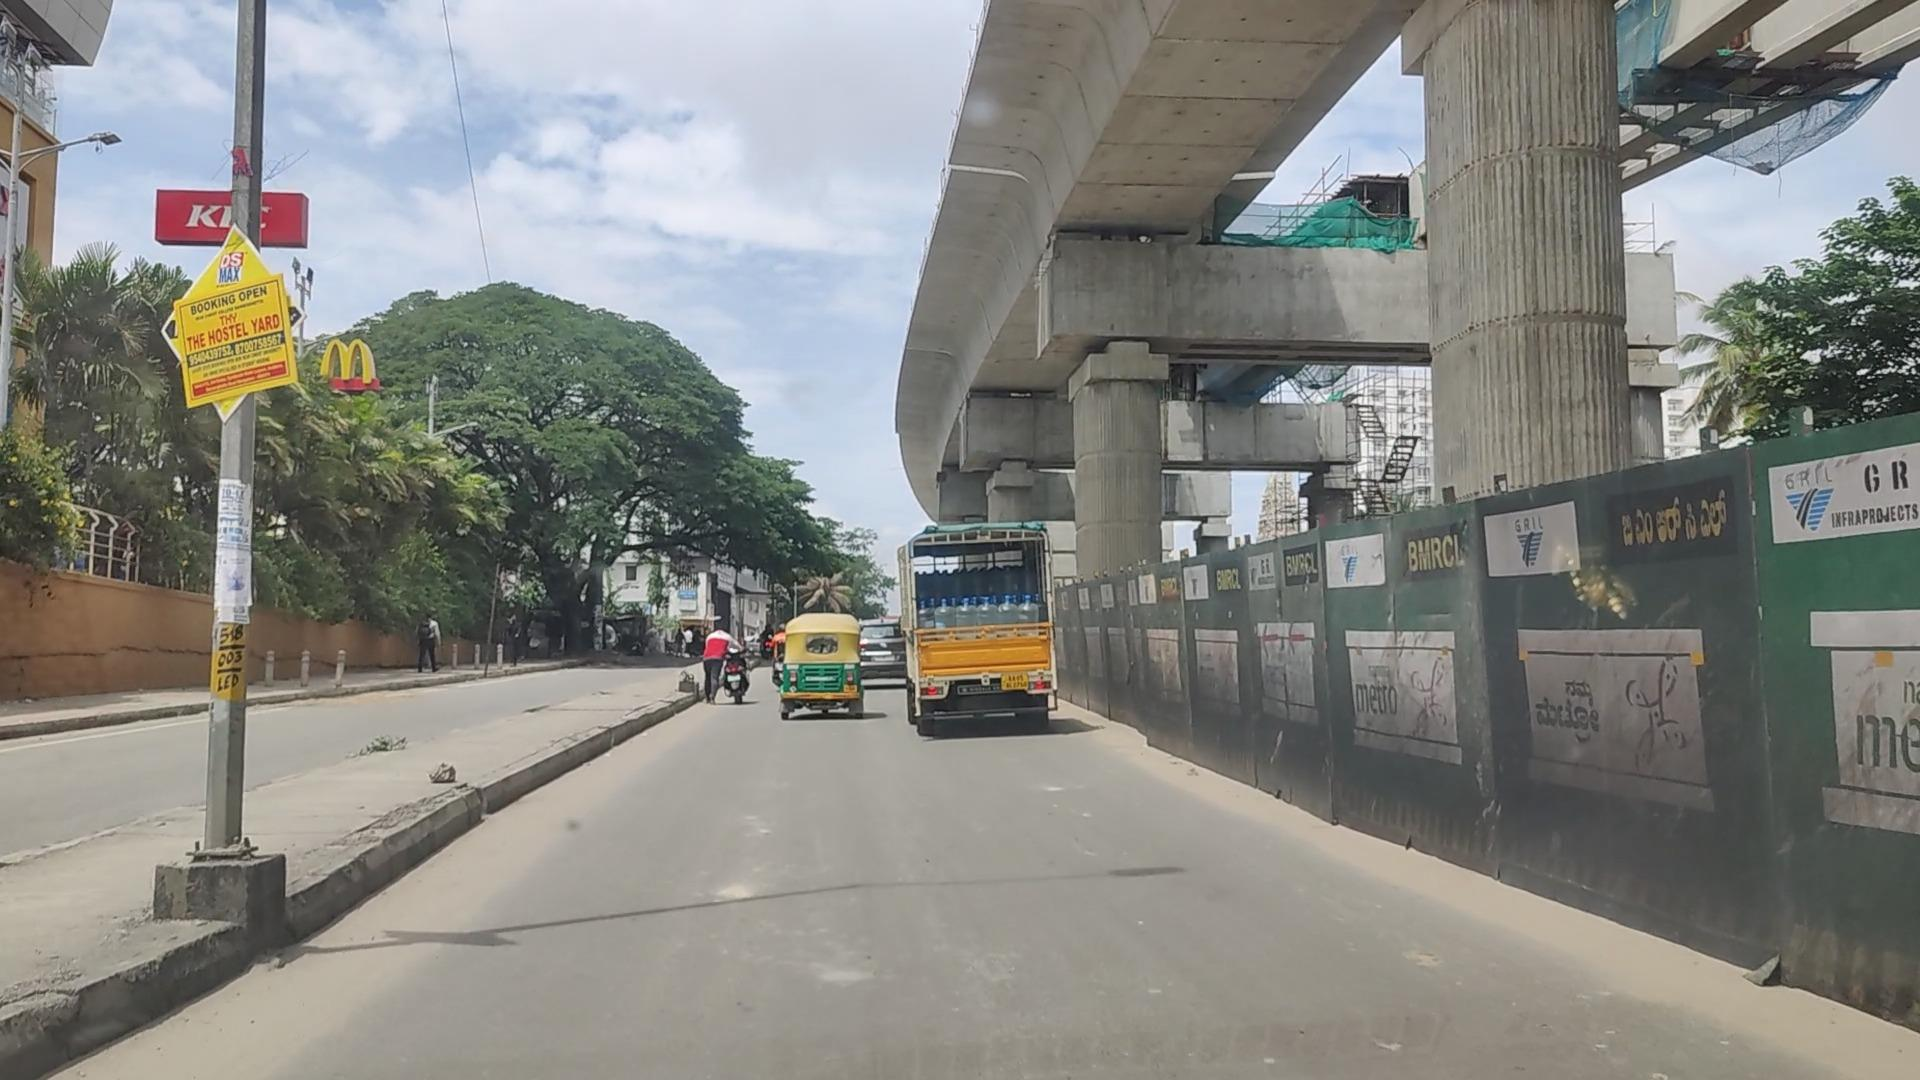HMV: (889, 509, 1044, 742)
LMV: (781, 609, 861, 720)
